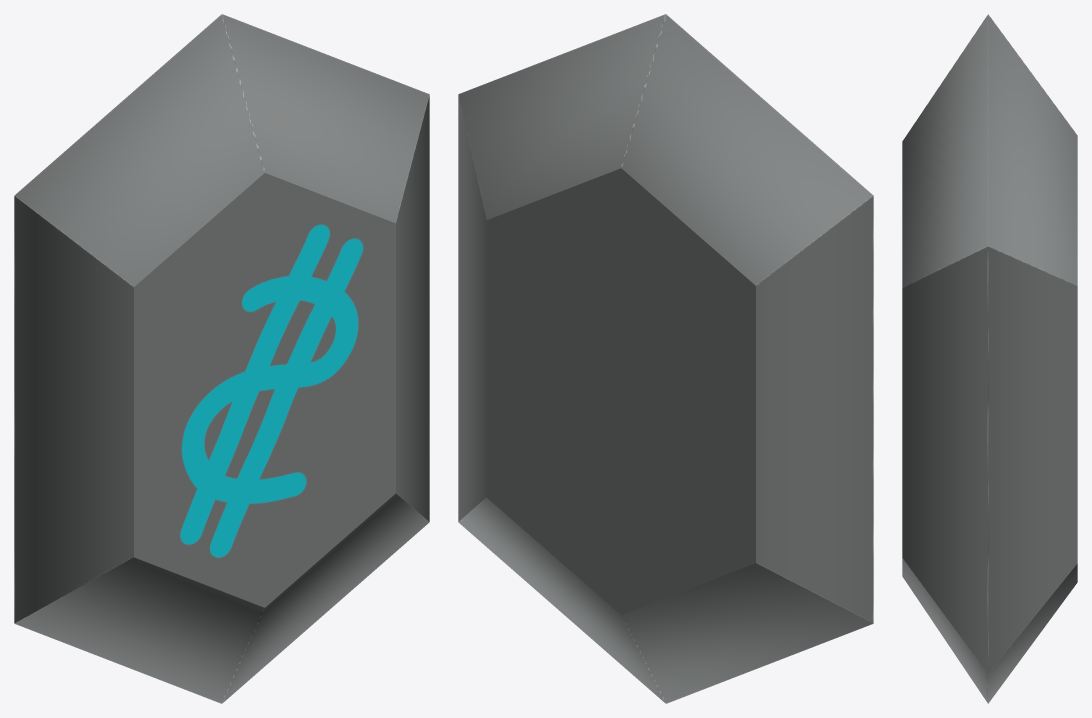
File: pattern_d4.fbx
3 views of the same model, side by side, from view 1: azimuth 30°, elevation 25°; view 2: azimuth 150°, elevation 25°; view 3: azimuth 270°, elevation 25° (orthographic).
Parts seen in each view (by area): view 1: pattern_d4_GEO; view 2: pattern_d4_GEO; view 3: pattern_d4_GEO.
Boxes of the visible parts, x1,y1,x2,y2 form: pattern_d4_GEO: (14,14,429,703); pattern_d4_GEO: (458,14,873,703); pattern_d4_GEO: (902,14,1077,703).
Size of the model in its own units: 1.41 by 2.24 by 0.5148.
